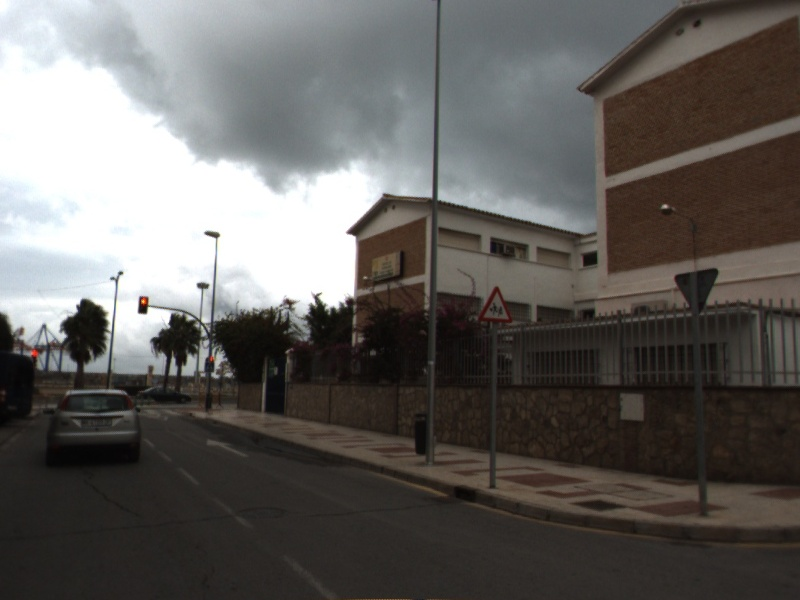STRAIGHT: (204, 436, 253, 460)
